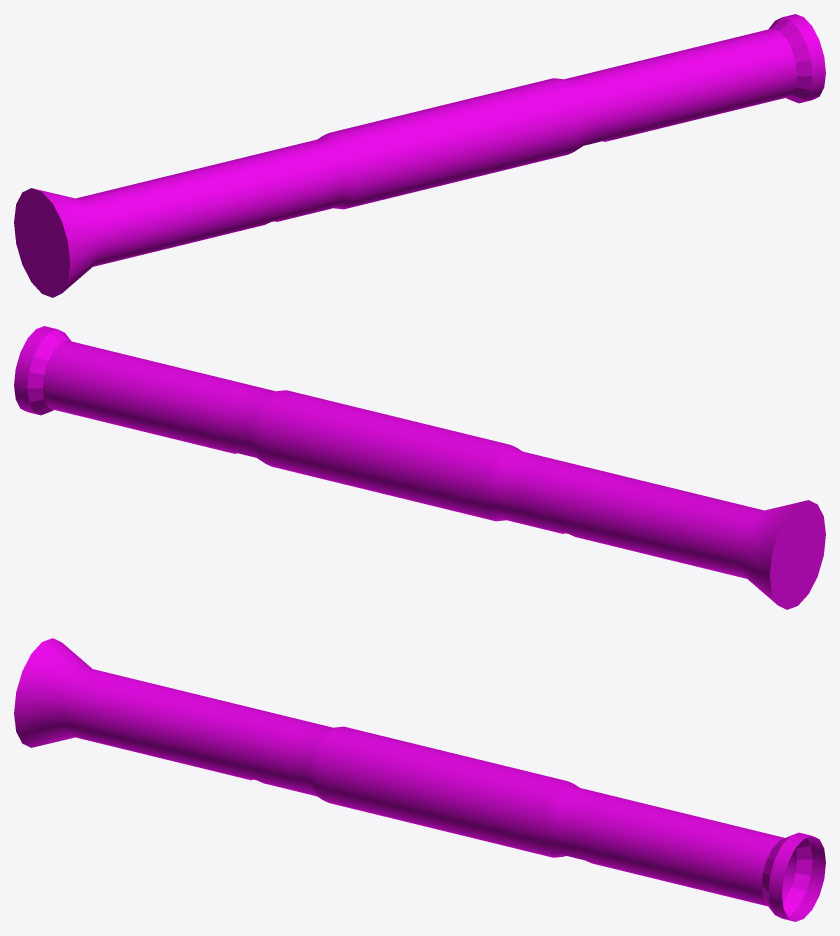
The model's file is BazookaTest.fbx.
3 renders of one model, top to bottom at view 1: azimuth 30°, elevation 25°; view 2: azimuth 150°, elevation 25°; view 3: azimuth 330°, elevation 25°, orthographic.
Visible parts, largest first — view 1: Bazooka1; view 2: Bazooka1; view 3: Bazooka1.
Boxes of the visible parts, box(x1,y1,x2,y2) form: Bazooka1: box(14, 14, 825, 297); Bazooka1: box(14, 326, 825, 609); Bazooka1: box(14, 638, 825, 921).
Size of the model in its own units: 150 by 19.19 by 19.19.
